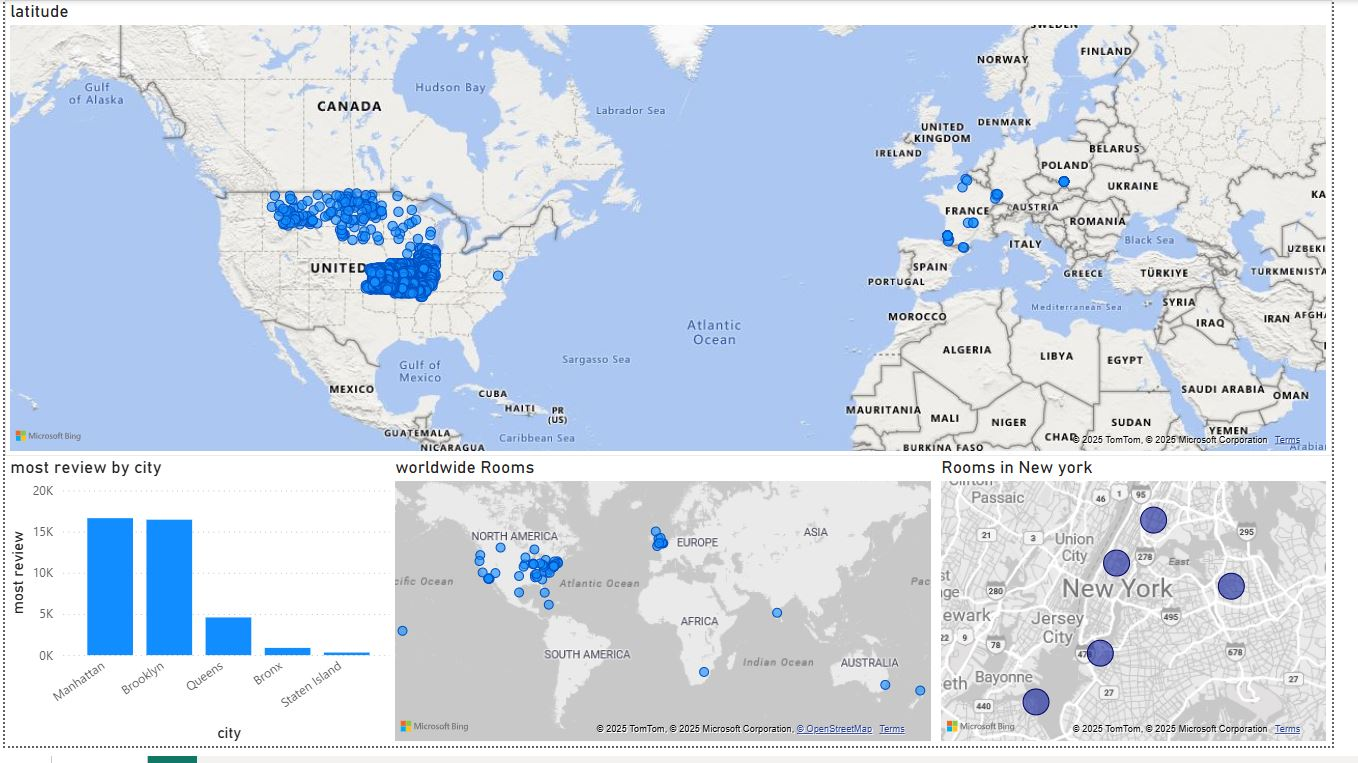

Layout of this report page (visuals, bound fields, positions):
{"tool":"powerbi","page":{"name":"Page 1","canvas":[1280,720],"ordinal":0},"visuals":[{"type":"columnChart","fields":{"Category":["AB_NYC_2019 - Correct.neighbourhood_group"],"Y":["CountNonNull(AB_NYC_2019 - Correct.last_review)"]},"box":[0,440.5,381.5,279.9],"z":0},{"type":"map","fields":{"Category":["AB_NYC_2019 - Correct.neighbourhood"]},"box":[371.9,440.5,526.9,279.9],"z":1},{"type":"map","fields":{"Category":["AB_NYC_2019 - Correct.neighbourhood_group"]},"box":[898.8,440.5,381.5,279.9],"z":2},{"type":"map","fields":{"Category":["AB_NYC_2019 - Correct.latitude","AB_NYC_2019 - Correct.longitude"]},"box":[0,0,1280.3,440.5],"z":3}]}

Visuals, with their boxes in screenshot pixels (x1, y1, x2, y2), scaled from the page's 1280x720 canvas onto the 1358x763 screenshot:
columnChart - AB_NYC_2019 - Correct.neighbourhood_group x CountNonNull(AB_NYC_2019 - Correct.last_review): 0:467:405:762
map - AB_NYC_2019 - Correct.neighbourhood: 395:467:954:762
map - AB_NYC_2019 - Correct.neighbourhood_group: 954:467:1357:762
map - AB_NYC_2019 - Correct.latitude x AB_NYC_2019 - Correct.longitude: 0:0:1357:467
